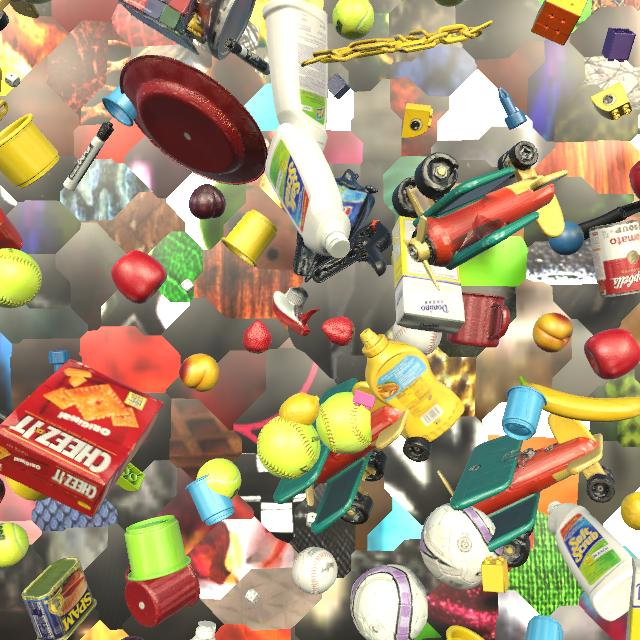ycb_003_cracker_box: (0, 359, 164, 518)
ycb_004_sugar_box: (392, 216, 465, 335), (626, 558, 640, 640)
ycb_005_tomato_soup_can: (589, 219, 640, 298)
ycb_006_mustard_bottle: (360, 329, 465, 442)
ycb_010_potted_meat_can: (22, 557, 97, 640)
ycb_011_banana: (518, 376, 640, 422)
ycb_012_strawberry: (242, 320, 272, 354), (322, 317, 355, 346)
ycb_013_apple: (111, 250, 167, 304), (584, 328, 640, 380), (629, 160, 640, 200)
ycb_014_lemon: (279, 393, 320, 426), (620, 491, 640, 530)
ycb_015_peach: (533, 313, 573, 353), (179, 354, 220, 392)
ycb_018_plum: (189, 184, 226, 219), (121, 636, 143, 640)
